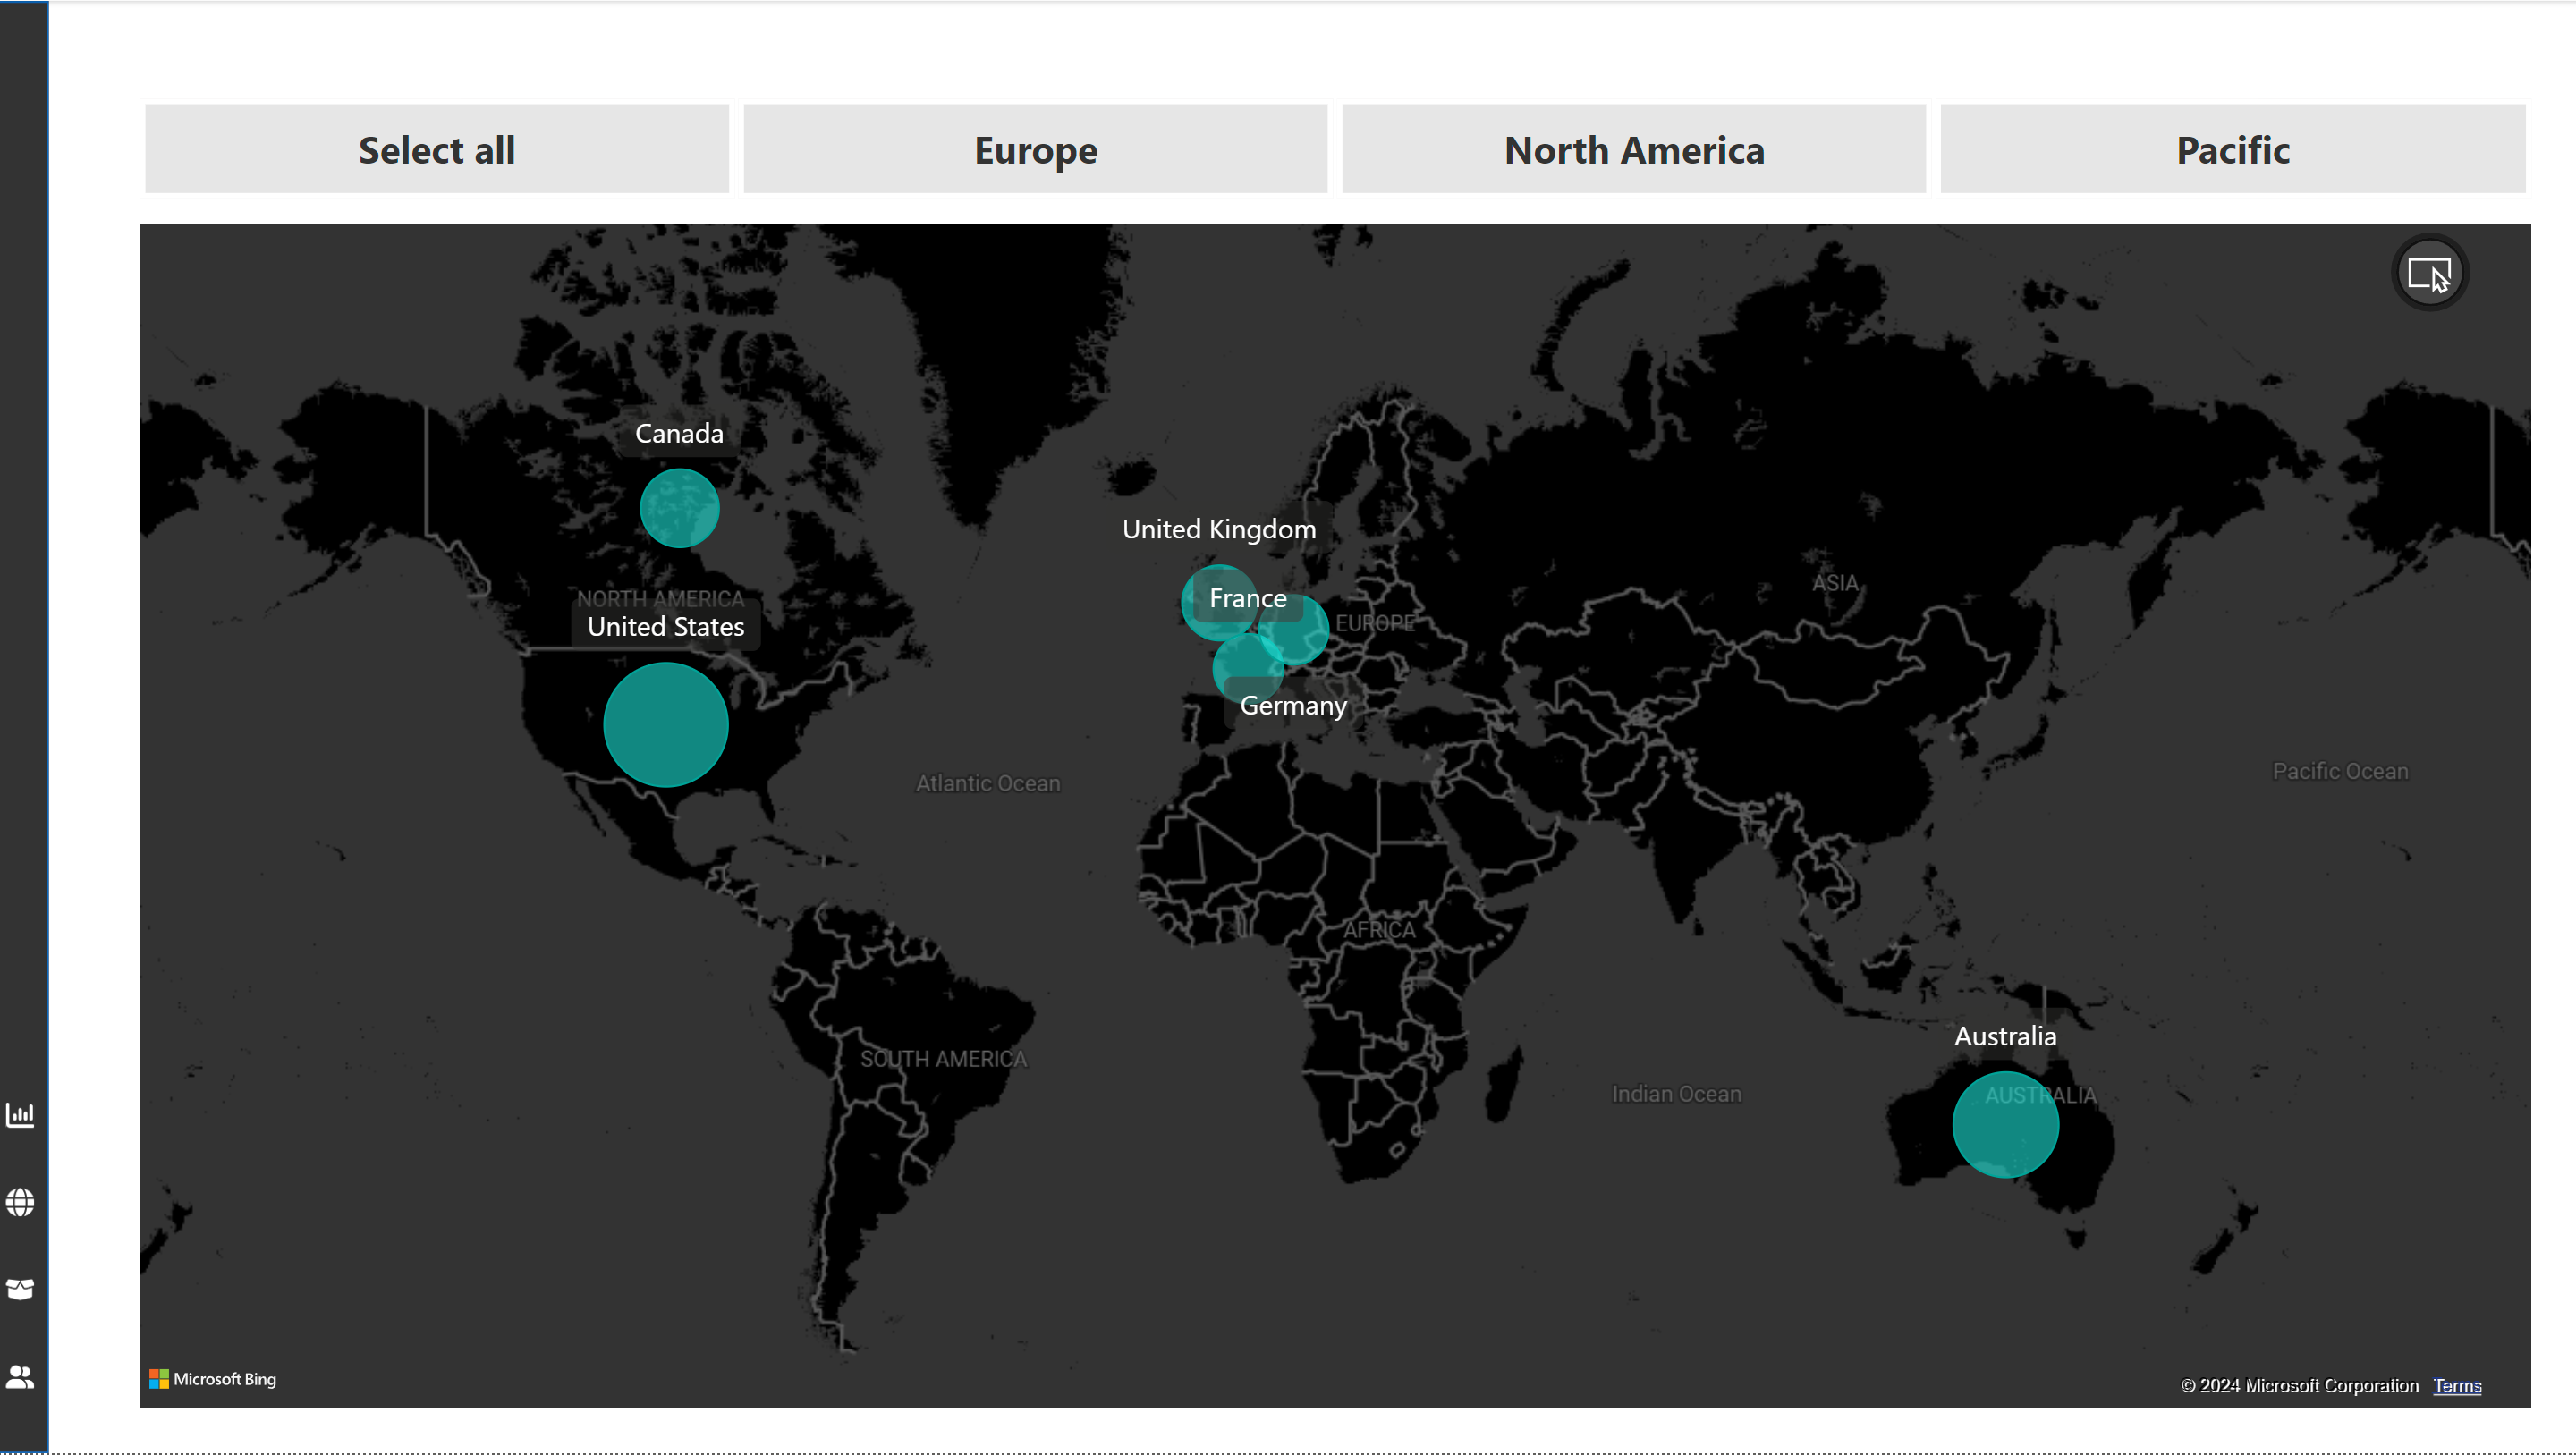

This screenshot's page, from the dashboard's own definition file:
{"tool":"powerbi","page":{"name":"Map","canvas":[1280,720],"ordinal":1},"visuals":[{"type":"shape","box":[0,0,25.9,720.3],"z":0},{"type":"actionButton","box":[1.2,584.9,26.6,22.3],"z":0,"group":"g1"},{"type":"actionButton","box":[0.9,541.6,26,22.3],"z":1000,"group":"g1"},{"type":"map","fields":{"Category":["Territory Lookup.Country"],"Size":["Measure Table.Total Orders"]},"box":[65.8,105.1,1195.8,597.9],"z":1000},{"type":"slicer","fields":{"Values":["Territory Lookup.Continent"]},"box":[45.2,41.2,1235,63.8],"z":2000},{"type":"actionButton","box":[0.9,671.4,26,22.3],"z":2000,"group":"g1"},{"type":"actionButton","box":[0.9,628.1,26,22.3],"z":3000,"group":"g1"},{"type":"group","id":"g1","title":"Navigation Buttons","box":[0.9,541.6,26.9,152.1],"z":3000}]}

Visuals, with their boxes on the page's 1280x720 design canvas (x1, y1, x2, y2). These are canvas units, not pixel positions in the 2576x1455 screenshot, which may show the page scaled, cropped or inside an application window:
shape: {"left": 0, "top": 0, "right": 26, "bottom": 720}
actionButton: {"left": 1, "top": 585, "right": 28, "bottom": 607}
actionButton: {"left": 1, "top": 542, "right": 27, "bottom": 564}
map - Territory Lookup.Country x Measure Table.Total Orders: {"left": 66, "top": 105, "right": 1262, "bottom": 703}
slicer - Territory Lookup.Continent: {"left": 45, "top": 41, "right": 1280, "bottom": 105}
actionButton: {"left": 1, "top": 671, "right": 27, "bottom": 694}
actionButton: {"left": 1, "top": 628, "right": 27, "bottom": 650}
"Navigation Buttons" group: {"left": 1, "top": 542, "right": 28, "bottom": 694}
